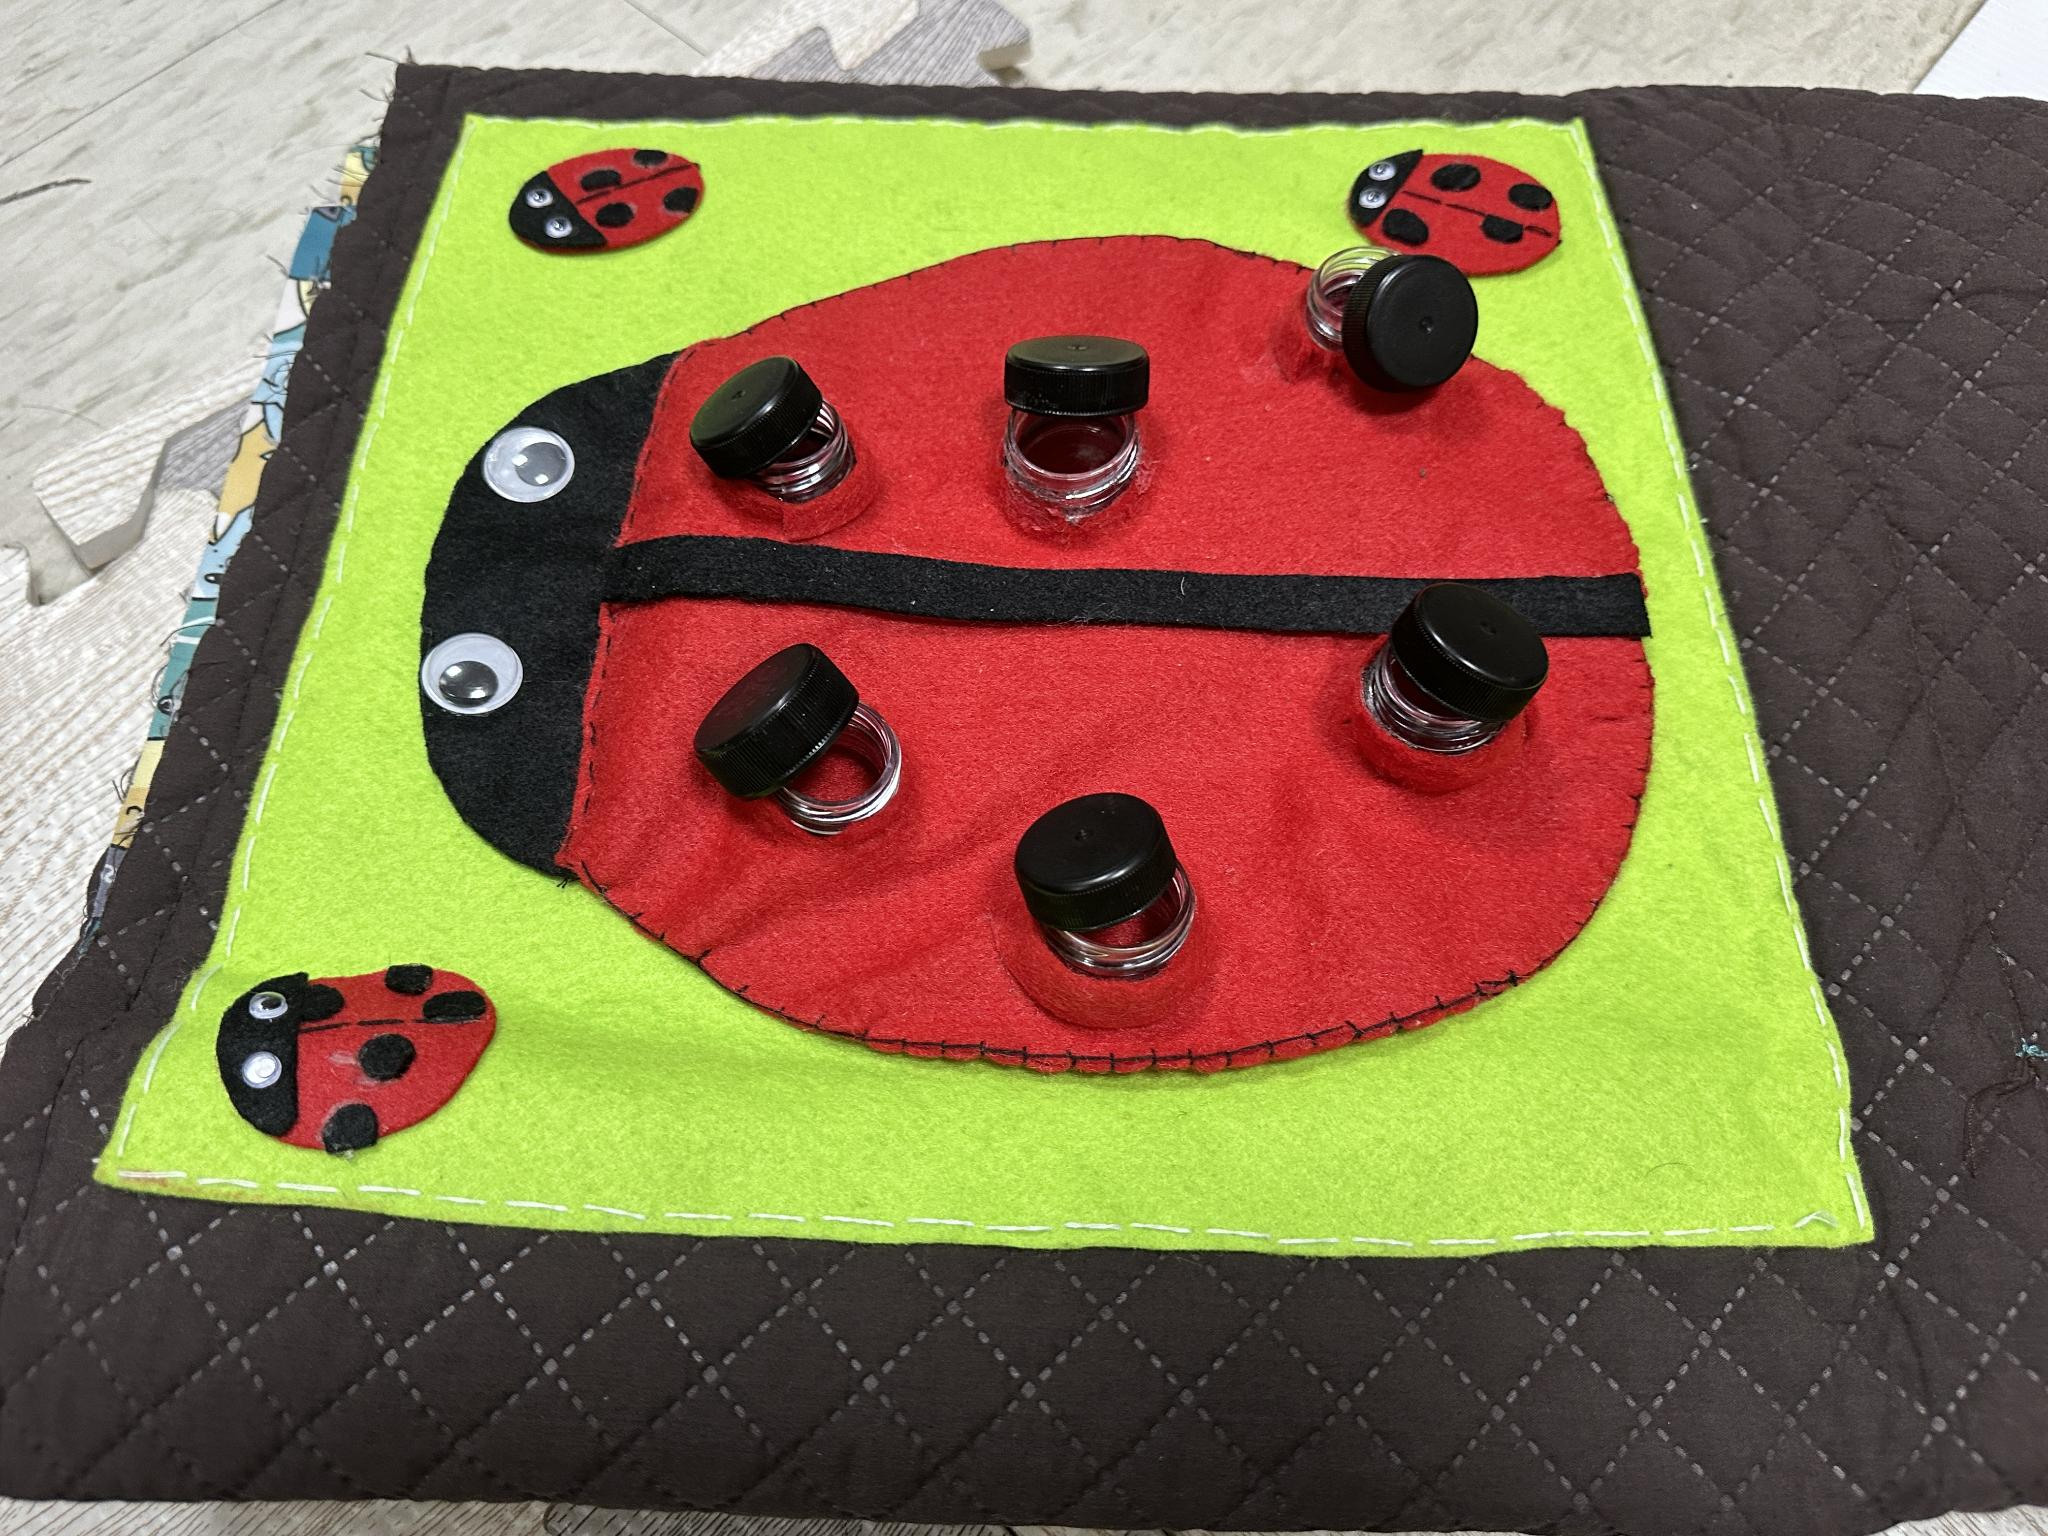cap_ng: (658, 621, 930, 850), (1334, 574, 1574, 815), (997, 763, 1218, 1015), (663, 336, 901, 520), (966, 331, 1185, 529), (1287, 221, 1490, 413)
